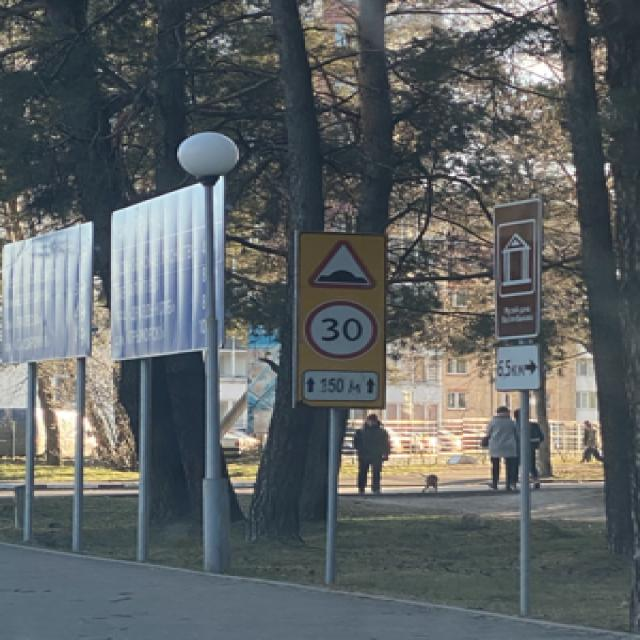speedlimit: (301, 297, 375, 358)
